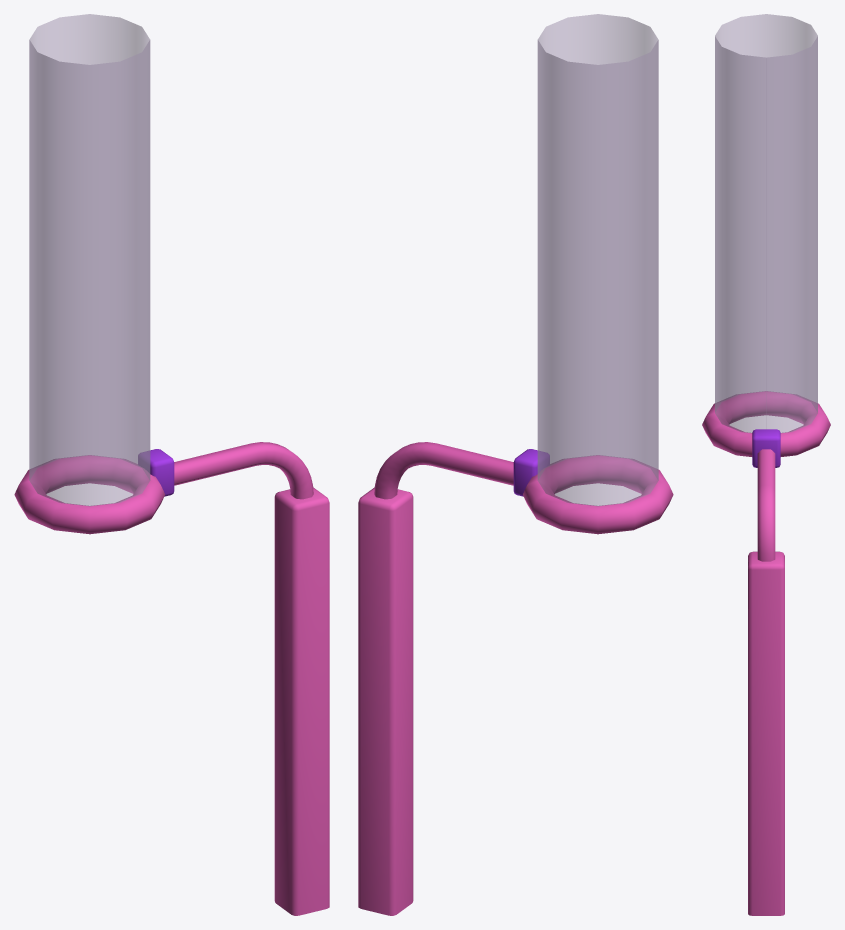
File: Prop_2.fbx
3 renders of one model, left to right at view 1: azimuth 30°, elevation 25°; view 2: azimuth 150°, elevation 25°; view 3: azimuth 270°, elevation 25°, orthographic. The views are drawn at different scales.
Parts seen in each view (by area): view 1: Torus, Cube.001; view 2: Torus, Cube.001; view 3: Torus, Cube.001.
Boxes of the visible parts, <box> form: Torus: <box>14,14,174,534</box>; Cube.001: <box>174,442,329,915</box>; Torus: <box>513,14,673,534</box>; Cube.001: <box>358,442,513,915</box>; Torus: <box>702,14,830,467</box>; Cube.001: <box>748,449,784,915</box>.
Bounding box in the file's own units: 2.14 × 6.32 × 0.943.
